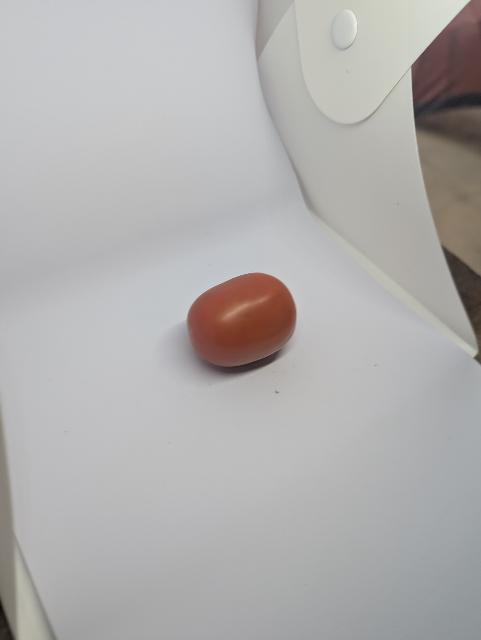red: (176, 264, 316, 381)
